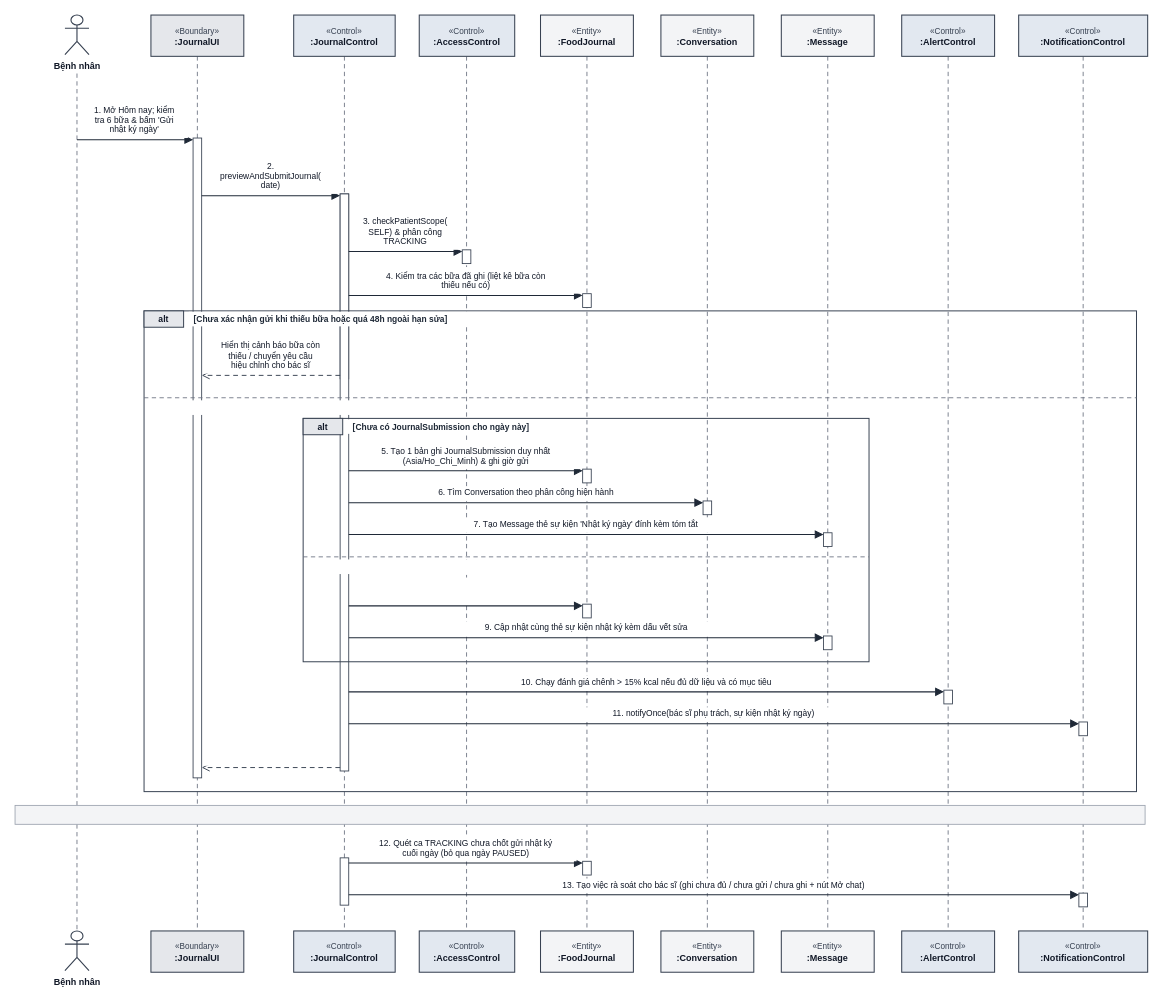
Image size: 1164x1003. Some labels were removed from this diagram. The shapes that lost their labels are listed below. From the top down, each one's box as (x1, y1, x2, y2) in pixels, then its label:
(150, 400, 407, 415): [Bệnh nhân xác nhận gửi (hoặc sửa trong hạn 48h)]
(310, 559, 511, 574): [Đã gửi trước đó và sửa trong hạn 48h]
(359, 577, 571, 604): 8. Lưu lịch sử chỉnh sửa (Revision) trên FoodJournal
(205, 739, 336, 765): Hiển thị giờ gửi và liên kết thẻ chat
(14, 805, 1145, 824): Cuối ngày bệnh nhân đủ điều kiện nhưng chưa gửi nhật ký
